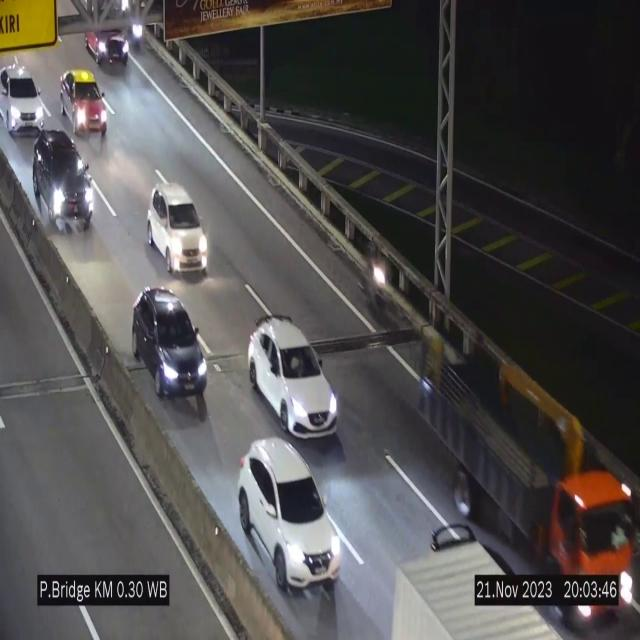Car: (238, 438, 340, 583), (248, 317, 338, 438), (132, 285, 208, 410), (34, 132, 96, 238), (147, 184, 209, 274), (56, 67, 112, 138), (0, 64, 44, 131)
Motorcycle: (367, 237, 389, 323)
Truck: (422, 329, 632, 626)
